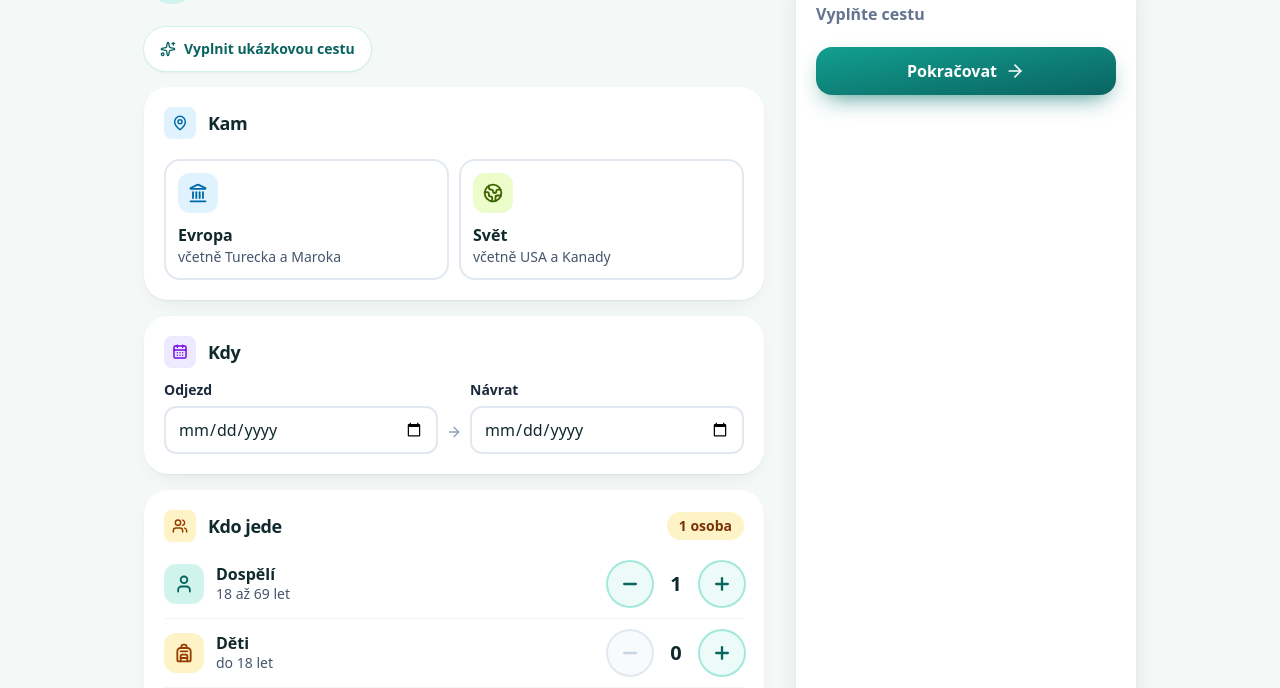
Test: PurchaseFlow › „Teď ne“ schová nabídku jen v daném kroku
Click the button "Vyplnit ukázkovou cestu" at (257, 49), box [144,27,371,71]
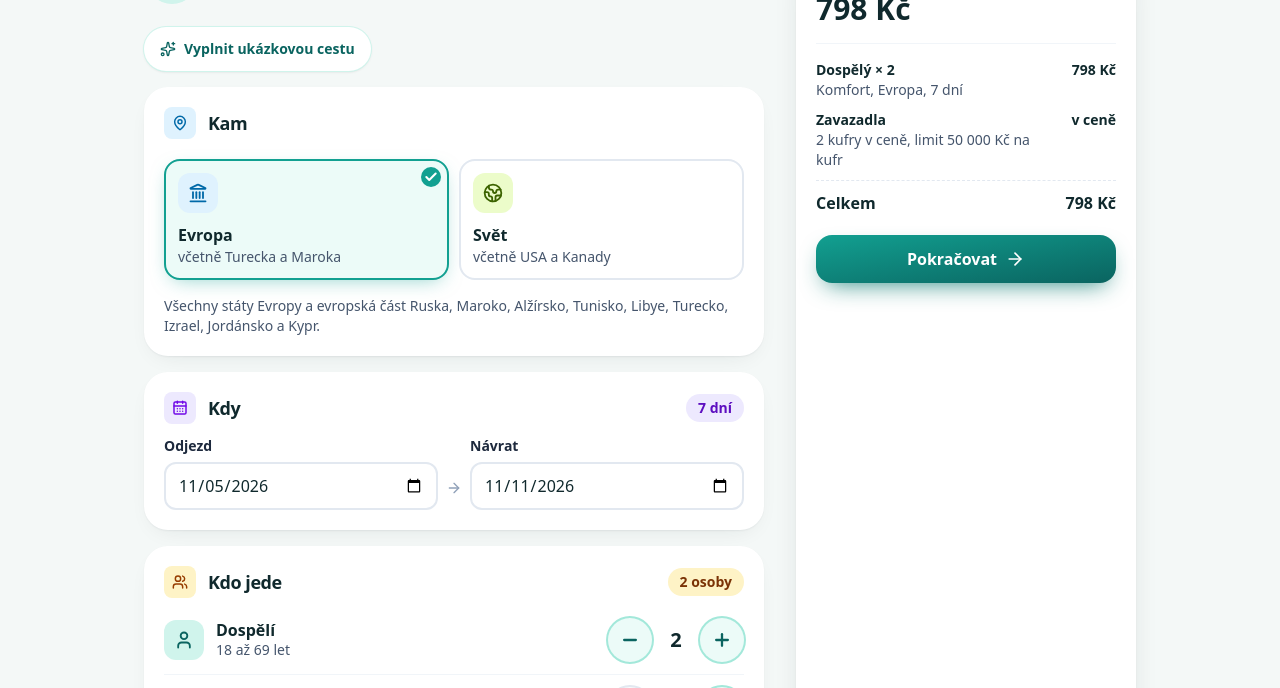
Click the button "Pokračovat" at (966, 259), box [816,235,1116,283]
(page scrolled)
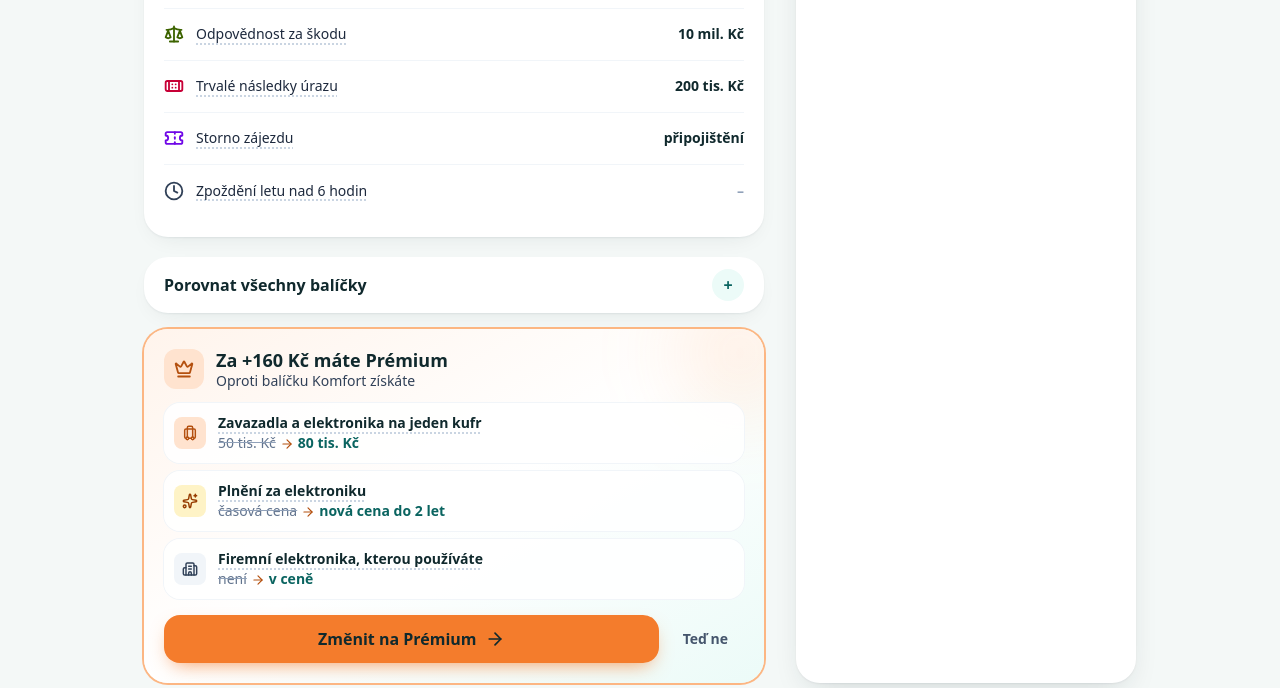
Click the button "Teď ne" at (705, 639), box [667,615,744,663]
(page scrolled)
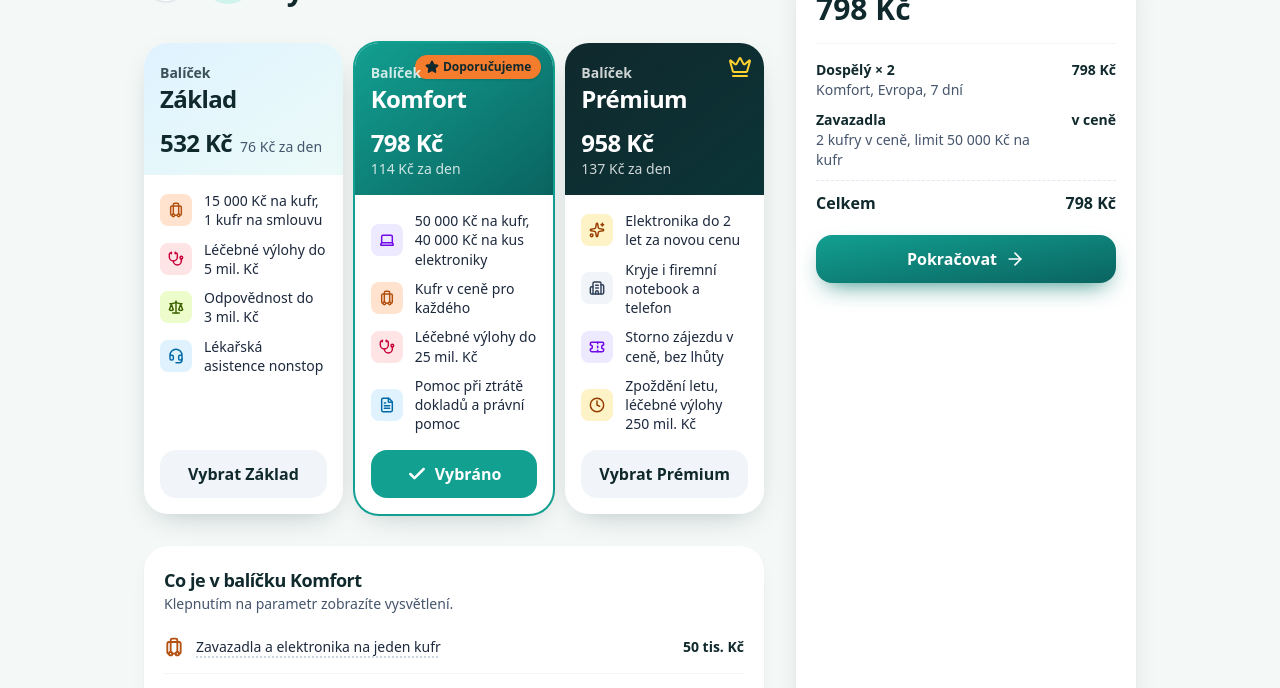
Expected: the heading "máte Prémium" is gone
Click the button "Pokračovat" at (966, 259), box [816,235,1116,283]
(page scrolled)
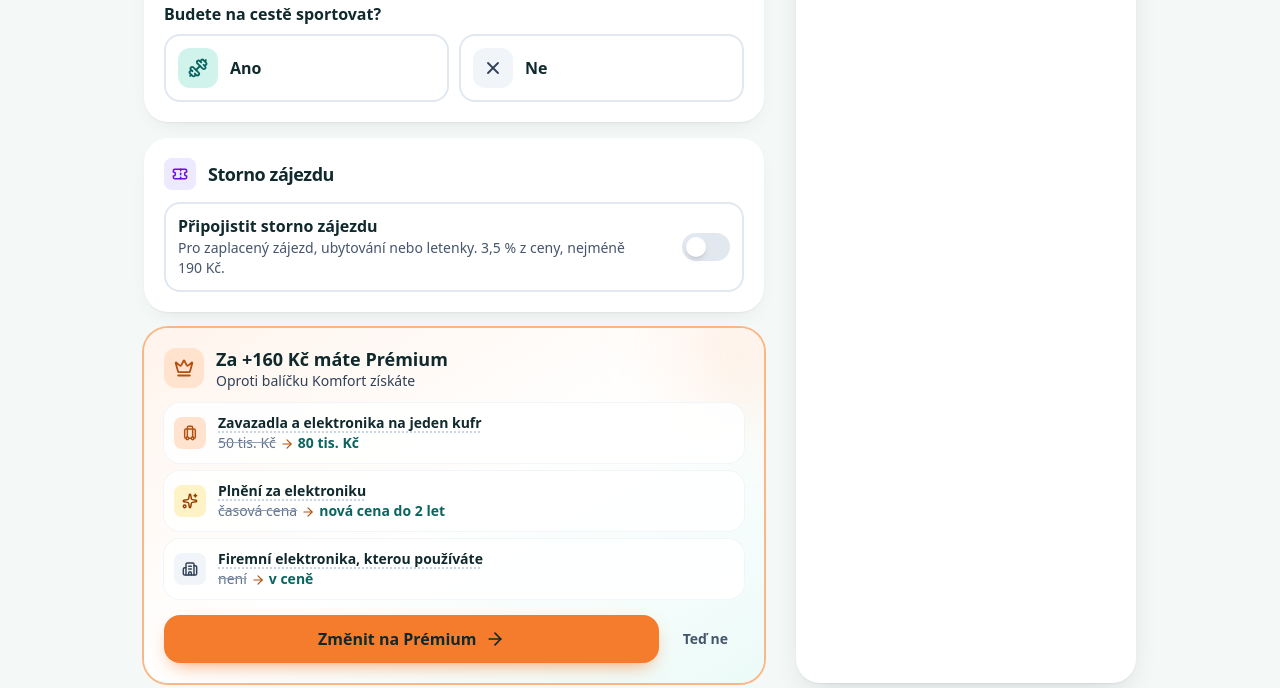
Expected: the element "máte Prémium" is shown, [144,328,764,682]
